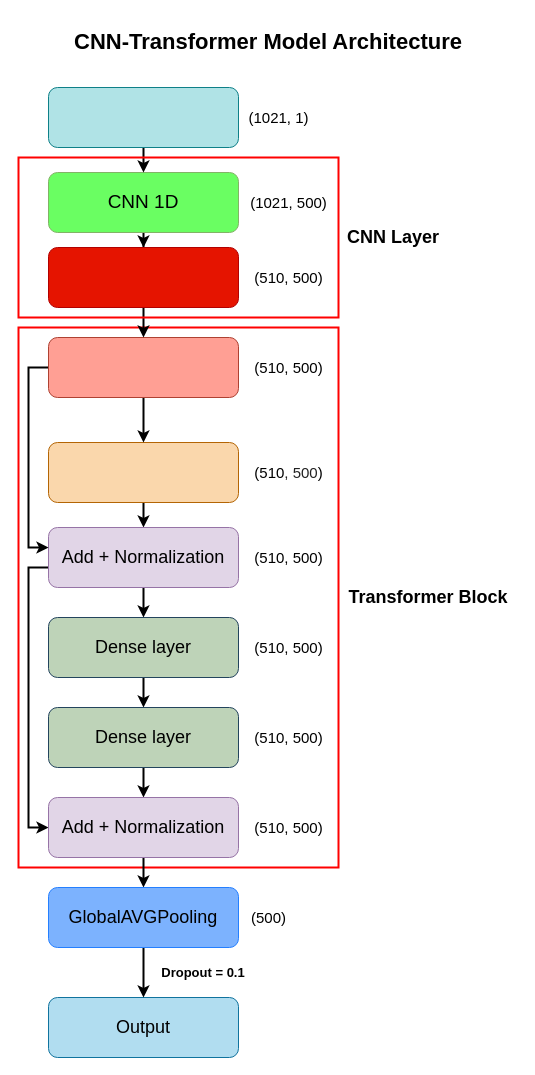
Image size: 535x1075. Some labels were removed from this diagram. The shapes that lost their labels are listed below. From the top down, each one's centre as x and y in pixels, then its label:
At point (143, 117): "Input Layer".
At point (143, 277): "Max Pooling".
At point (143, 367): "Potisional Encoding".
At point (143, 472): "Multi Head Attention".
